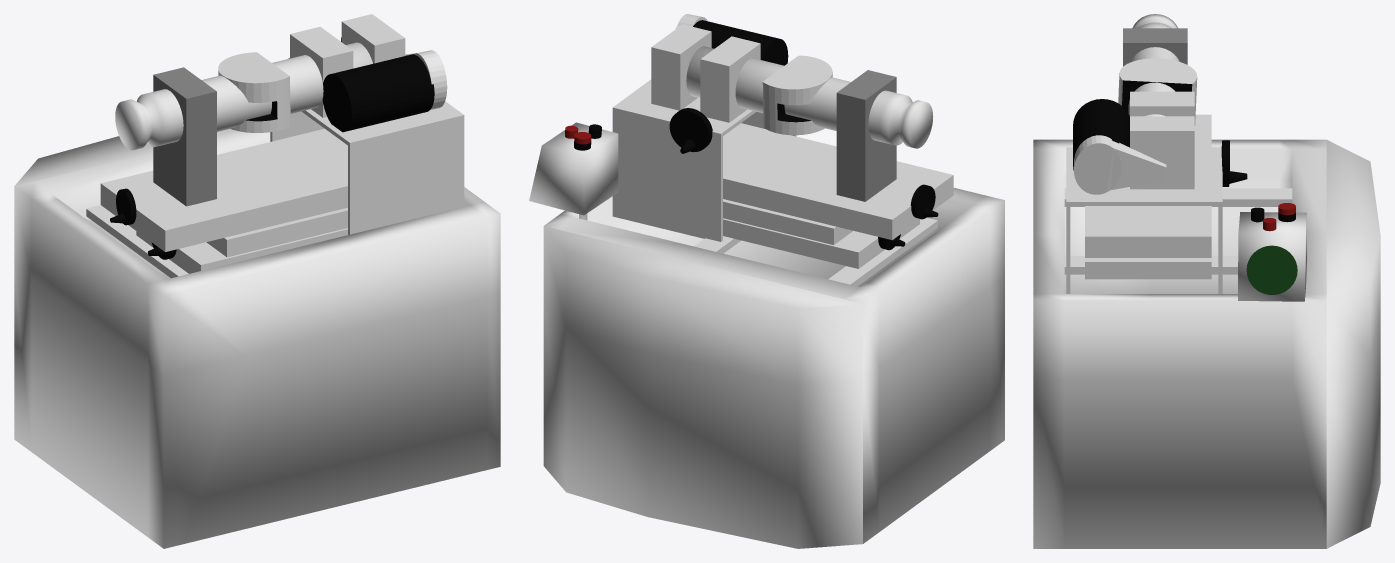
File: GERADOR MANUAL (JUNTO).fbx
3 renders of one model, left to right at view 1: azimuth 30°, elevation 25°; view 2: azimuth 150°, elevation 25°; view 3: azimuth 270°, elevation 25°, orthographic. The views are drawn at different scales.
Parts seen in each view (by area): view 1: Cube.006; view 2: Cube.006; view 3: Cube.006.
Boxes of the visible parts, bbox=[...] form: Cube.006: bbox=[14, 14, 500, 548]; Cube.006: bbox=[529, 14, 1004, 548]; Cube.006: bbox=[1033, 14, 1380, 548].
Bounding box in the file's own units: 1.23 × 1.31 × 1.04.
